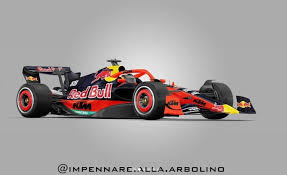Formule 1: (18, 63, 257, 120)
